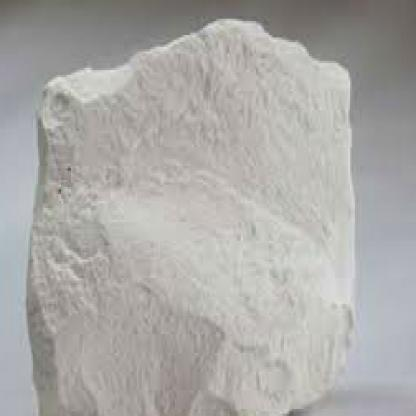Sedimentary_Chalk: (23, 9, 362, 414)
